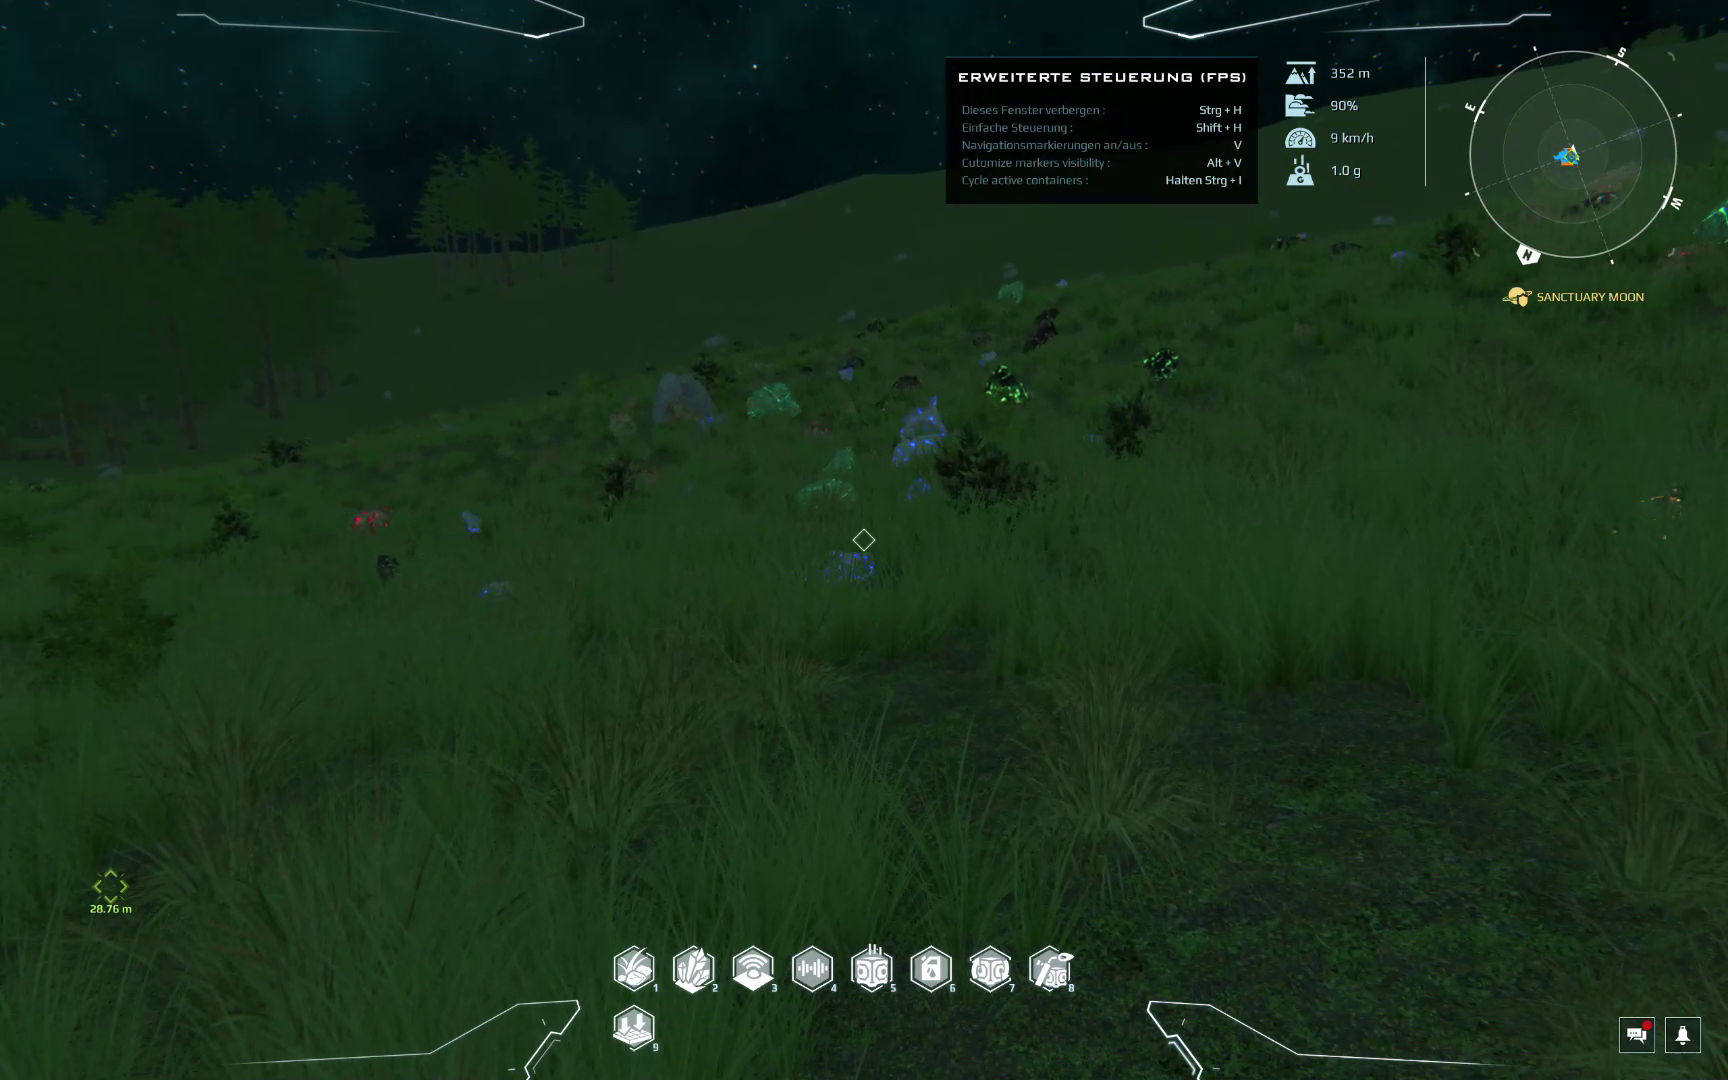Ore: (1576, 459, 1697, 562), (651, 370, 722, 435), (888, 389, 952, 460), (740, 376, 810, 422), (814, 541, 881, 589), (897, 458, 963, 505), (787, 473, 862, 513), (979, 360, 1035, 408), (1136, 343, 1189, 382), (873, 372, 922, 413), (343, 499, 397, 534), (467, 574, 523, 605), (455, 503, 493, 540), (1263, 229, 1308, 260), (992, 275, 1030, 306), (1327, 236, 1365, 259)
